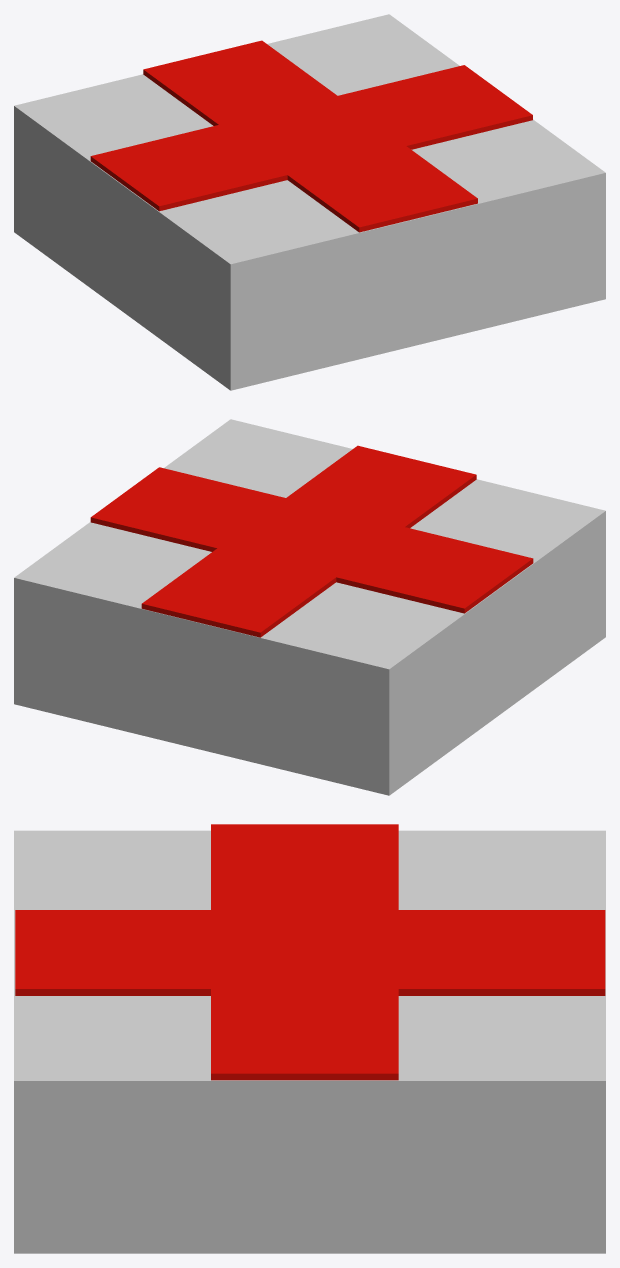
File: Medbox2.fbx
3 views of the same model, one above another, from view 1: azimuth 30°, elevation 25°; view 2: azimuth 150°, elevation 25°; view 3: azimuth 270°, elevation 25° (orthographic). The views are drawn at different scales.
Visible parts, largest first — view 1: Kostka, Kostka.001; view 2: Kostka, Kostka.001; view 3: Kostka, Kostka.001.
Part boxes in pixels (bbox=[...]): Kostka: bbox=[14, 14, 605, 390]; Kostka.001: bbox=[90, 40, 532, 232]; Kostka: bbox=[14, 419, 605, 795]; Kostka.001: bbox=[90, 445, 533, 637]; Kostka: bbox=[14, 830, 605, 1253]; Kostka.001: bbox=[15, 824, 605, 1080].
Size of the model in its own units: 200 by 66.94 by 200.
